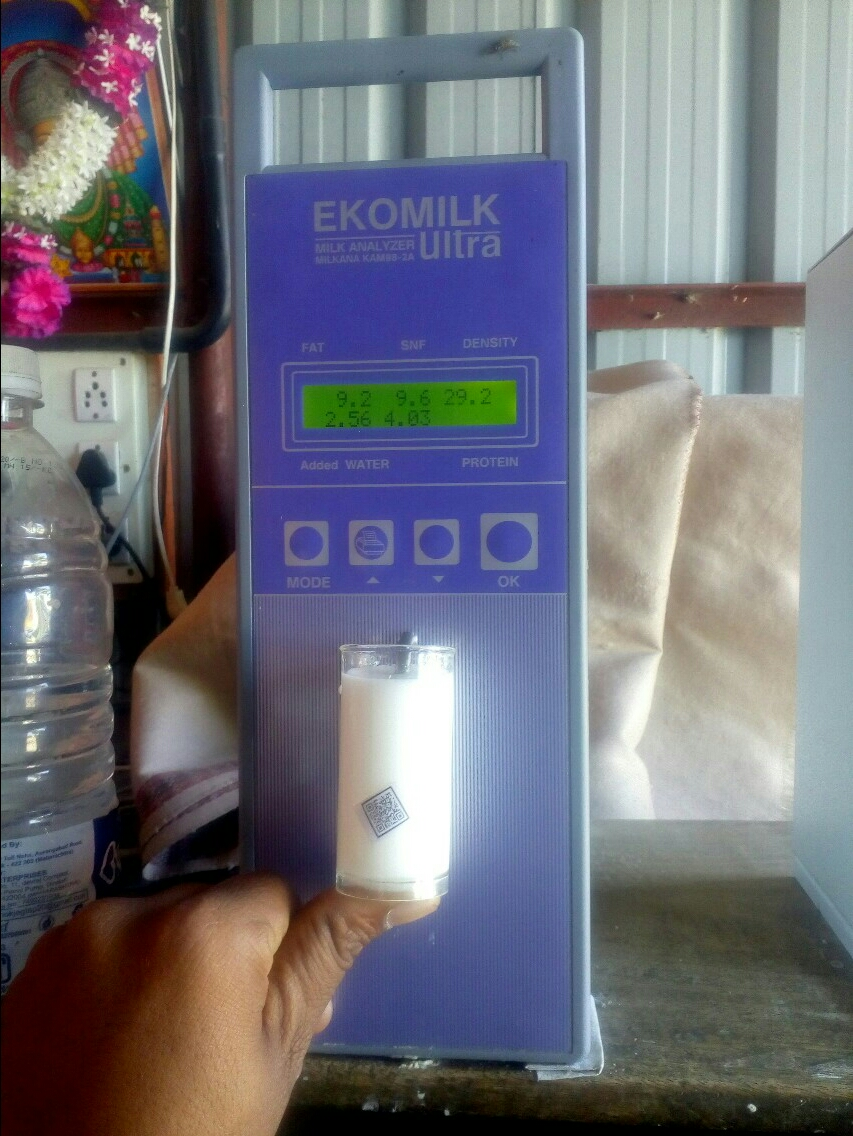lcd: (294, 376, 529, 437)
qr: (353, 783, 413, 842)
